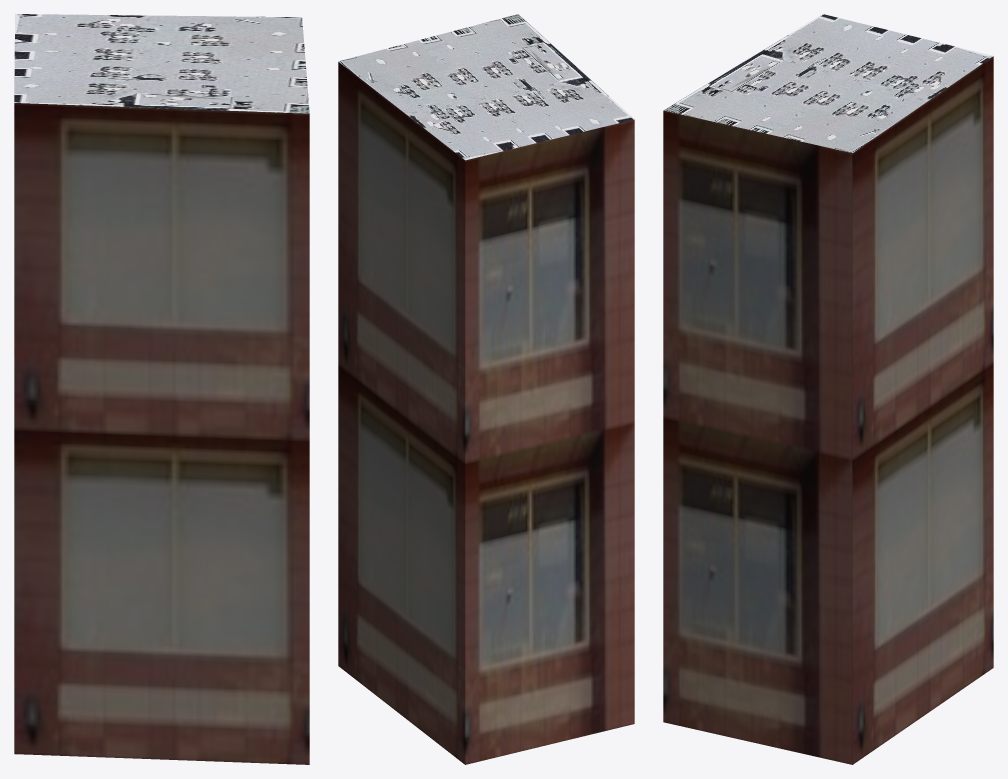
The model's file is ResTex__581.fbx.
3 renders of one model, left to right at view 1: azimuth 30°, elevation 25°; view 2: azimuth 150°, elevation 25°; view 3: azimuth 270°, elevation 25°, orthographic. The views are drawn at different scales.
Parts seen in each view (by area): view 1: CityEngineMaterial_13_m, CityEngineMaterial_m; view 2: CityEngineMaterial_13_m, CityEngineMaterial_m; view 3: CityEngineMaterial_13_m, CityEngineMaterial_m.
Boxes of the visible parts, <box> form: CityEngineMaterial_13_m: <box>14,103,309,764</box>; CityEngineMaterial_m: <box>14,14,309,113</box>; CityEngineMaterial_13_m: <box>338,62,634,764</box>; CityEngineMaterial_m: <box>338,14,634,160</box>; CityEngineMaterial_13_m: <box>663,56,993,764</box>; CityEngineMaterial_m: <box>663,14,993,152</box>.
Bounding box in the file's own units: 2.93 × 6 × 2.94.
Materials: 2 (2 with a texture image).
